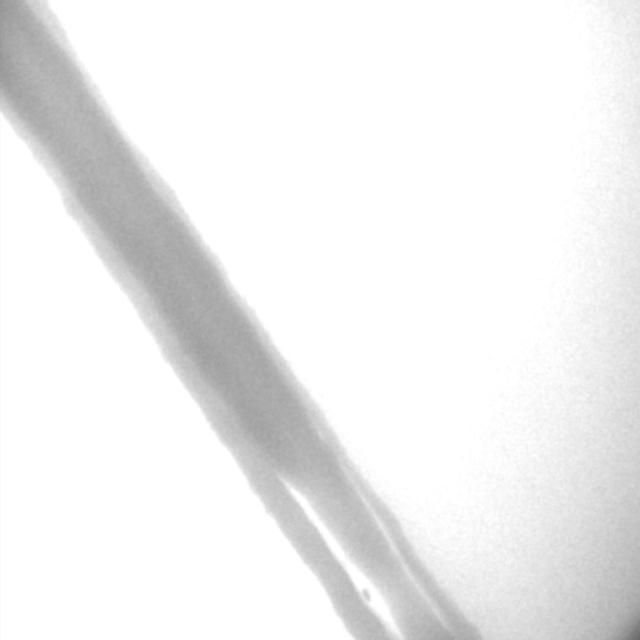unfused: (277, 471, 451, 631)
